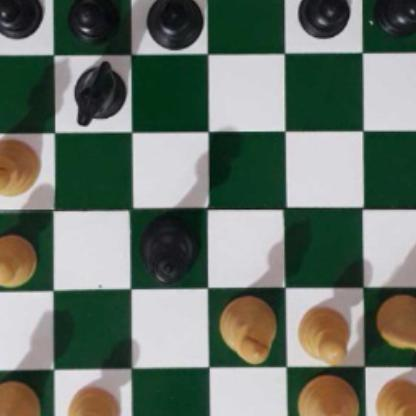black-bishop: (143, 0, 206, 52)
black-knight: (70, 62, 128, 127)
black-pawn: (67, 0, 119, 42), (297, 0, 349, 36), (0, 0, 39, 39), (375, 0, 416, 34)
black-queen: (136, 213, 197, 286)
white-bishop: (216, 296, 278, 367), (0, 136, 42, 197)
white-king: (296, 374, 367, 416)
white-knight: (372, 291, 416, 361)
white-pawn: (294, 301, 351, 361), (0, 232, 37, 286), (65, 382, 120, 416), (374, 377, 416, 416)
white-rook: (0, 379, 41, 416)
